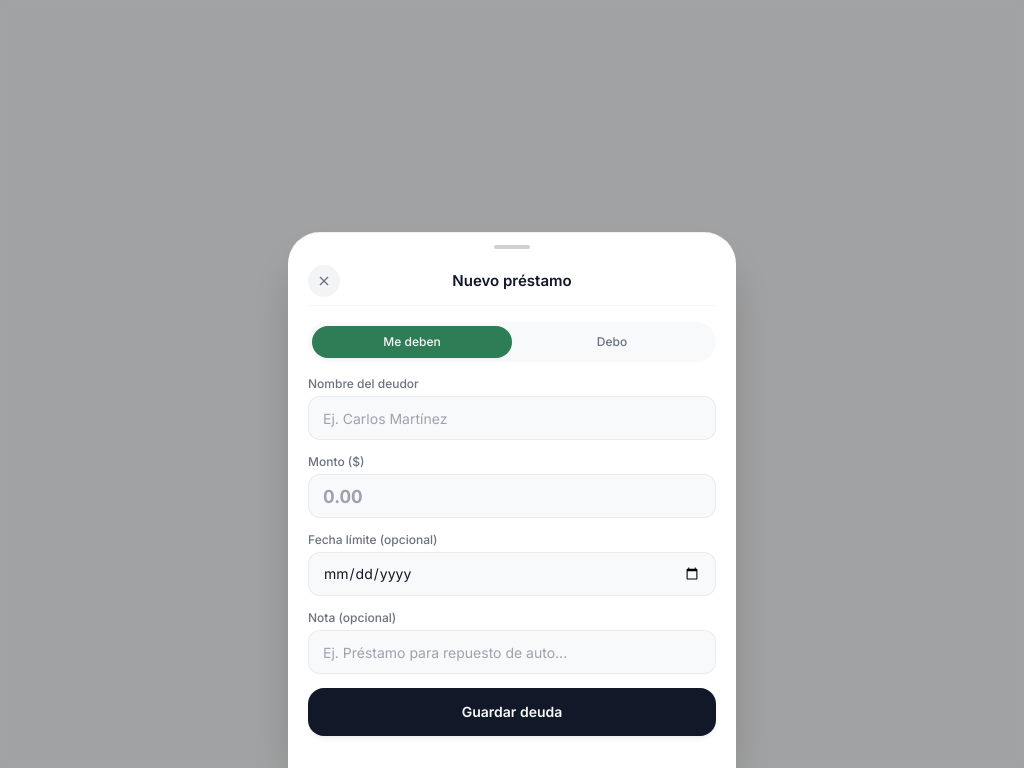
Test: DebtModal › muestra el error del servicio
The image size is (1024, 768).
Type "Carlos" into the field with placeholder "Ej. Carlos Martínez" at (512, 418), box [308,396,716,440]
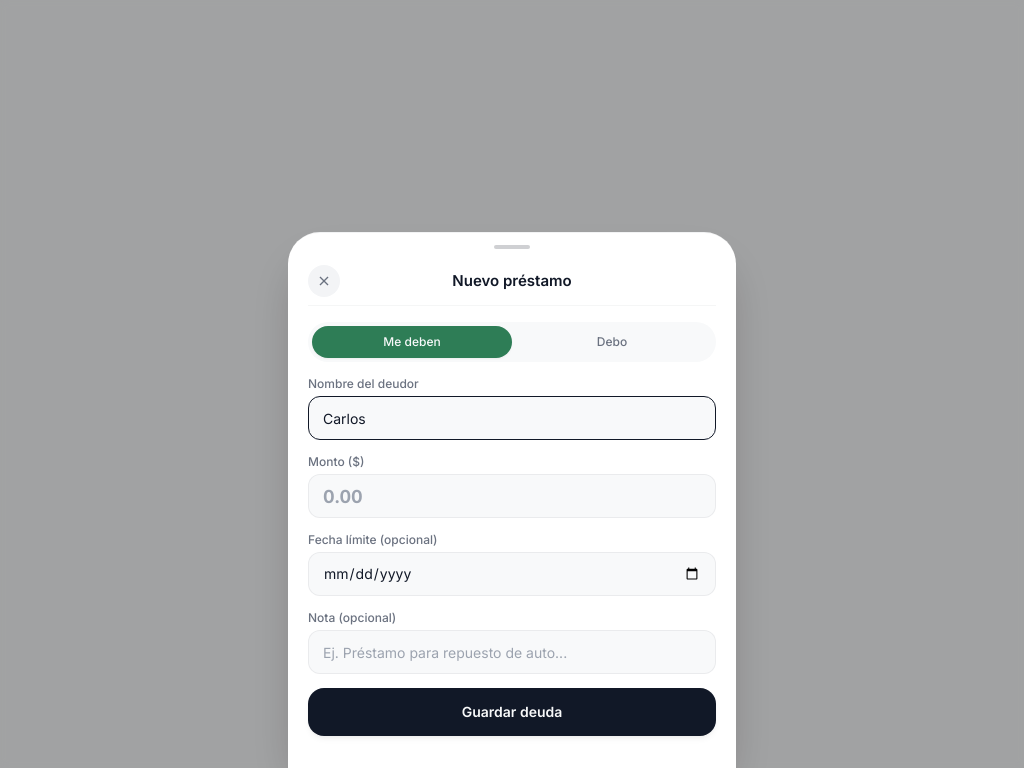
Type "100" into the number field with placeholder "0.00" at (512, 496), box [308,474,716,518]
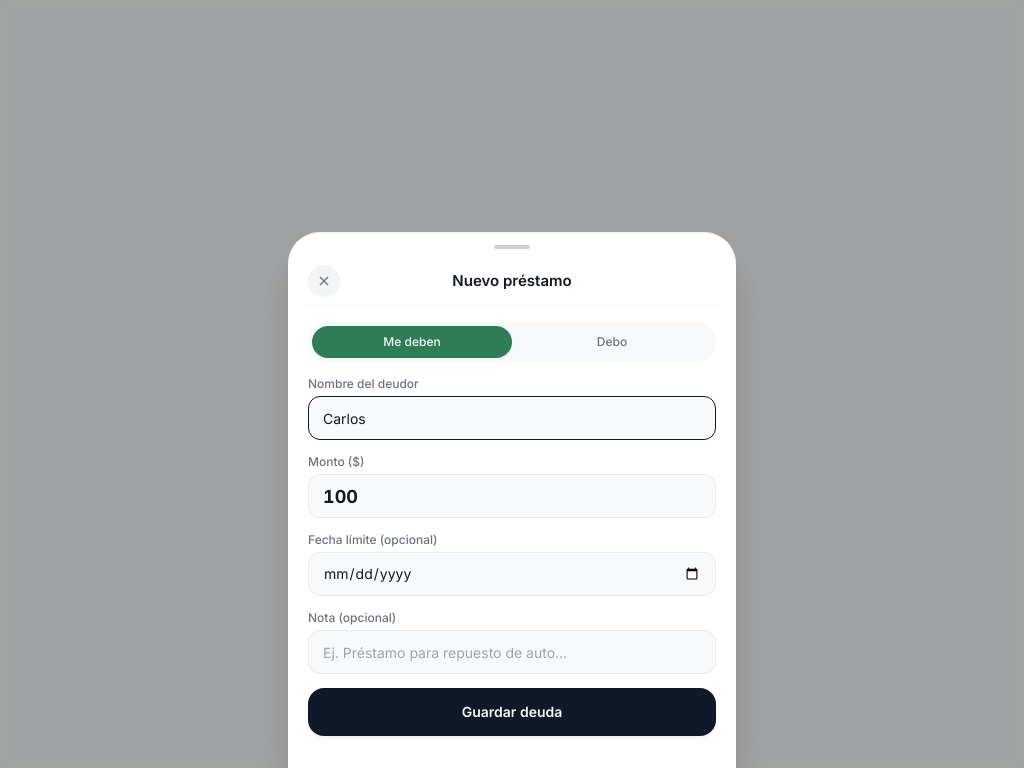
Click the button "Guardar deuda" at (512, 712), box [308,688,716,736]
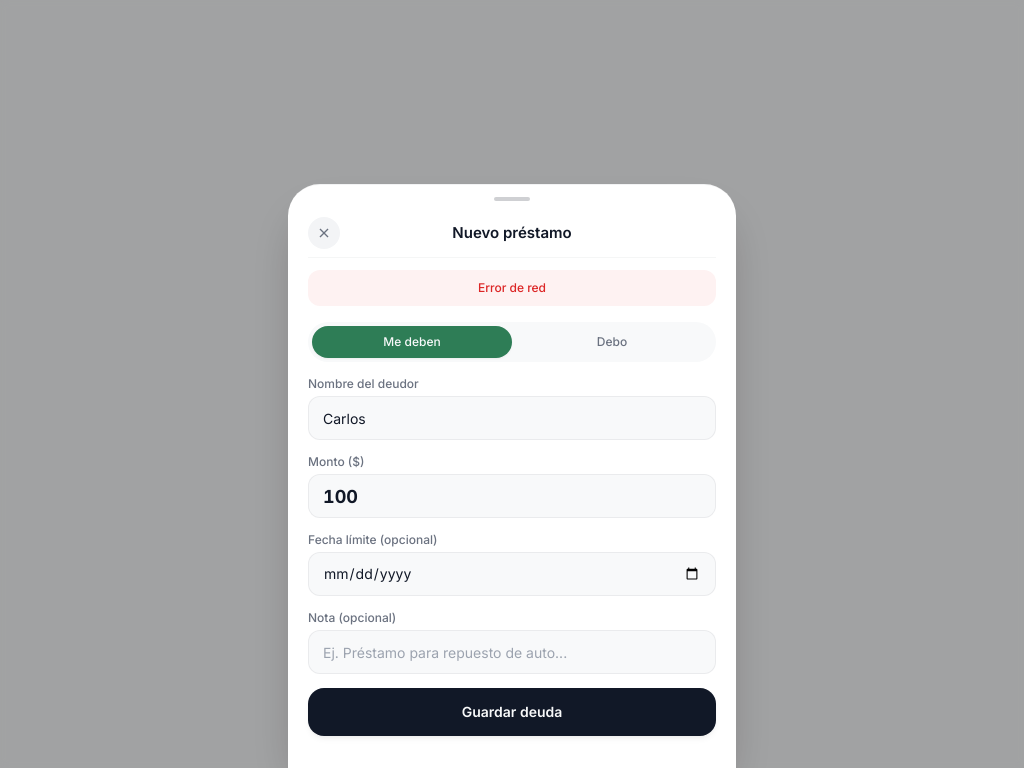
Expected: the text "Error de red" is shown, [308,270,716,306]
